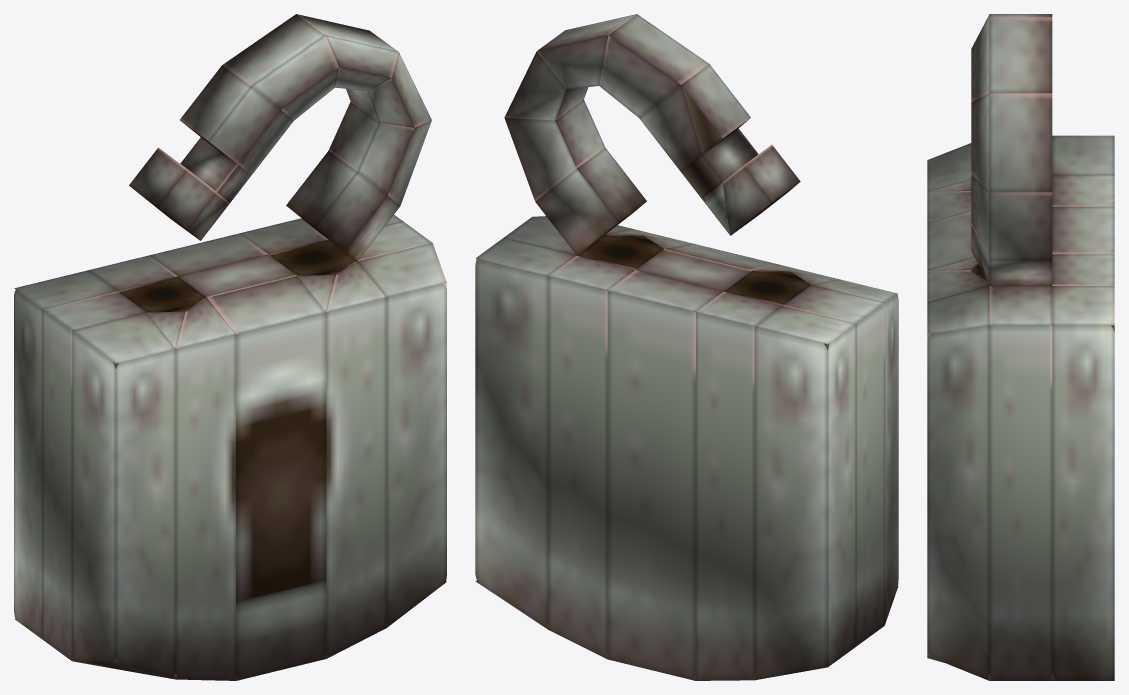
3 views of the same model, side by side, from view 1: azimuth 30°, elevation 25°; view 2: azimuth 150°, elevation 25°; view 3: azimuth 270°, elevation 25° (orthographic). The views are drawn at different scales.
Parts seen in each view (by area): view 1: T1L2M002_30; view 2: T1L2M002_30; view 3: T1L2M002_30.
Part boxes in pixels (box(x1,y1,x2,y2)): T1L2M002_30: box(14, 14, 446, 680); T1L2M002_30: box(475, 14, 898, 680); T1L2M002_30: box(927, 14, 1114, 680).
Bounding box in the file's own units: 0.4795 × 0.7764 × 0.2002.
